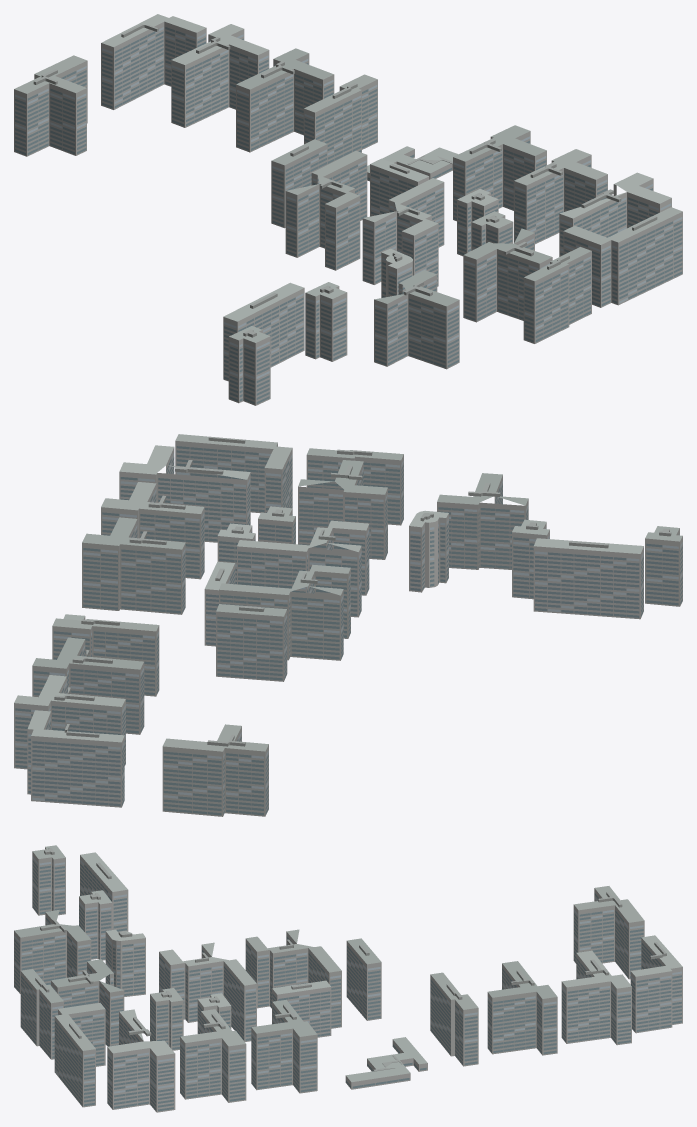
The model's file is apt-a13986306.glb.
The picture shows the model from 3 angles, top to bottom: view 1: azimuth 30°, elevation 25°; view 2: azimuth 150°, elevation 25°; view 3: azimuth 270°, elevation 25°; orthographic projection. The views are drawn at different scales.
Parts seen in each view (by area): view 1: apt-a13986306; view 2: apt-a13986306; view 3: apt-a13986306.
Part boxes in pixels (x1,y1,x2,y2): apt-a13986306: [14, 14, 682, 405]; apt-a13986306: [14, 434, 682, 816]; apt-a13986306: [14, 845, 682, 1112].
Bounding box in the file's own units: 366 × 47.81 × 490.
